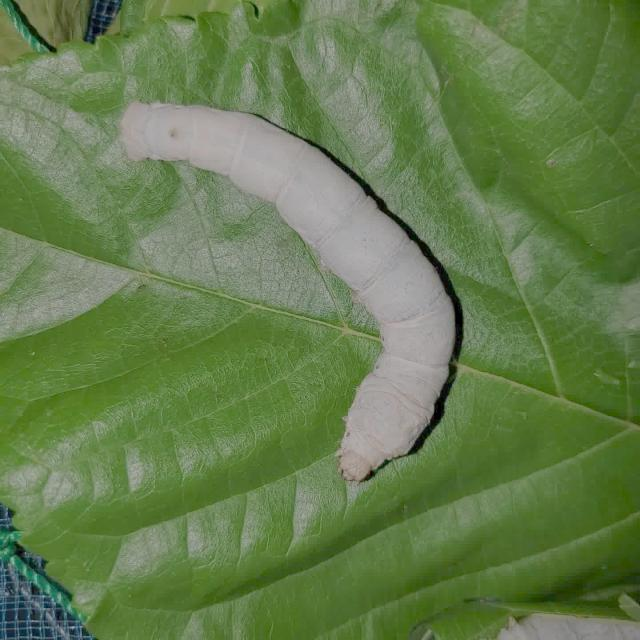Healthy: (114, 92, 466, 489)
